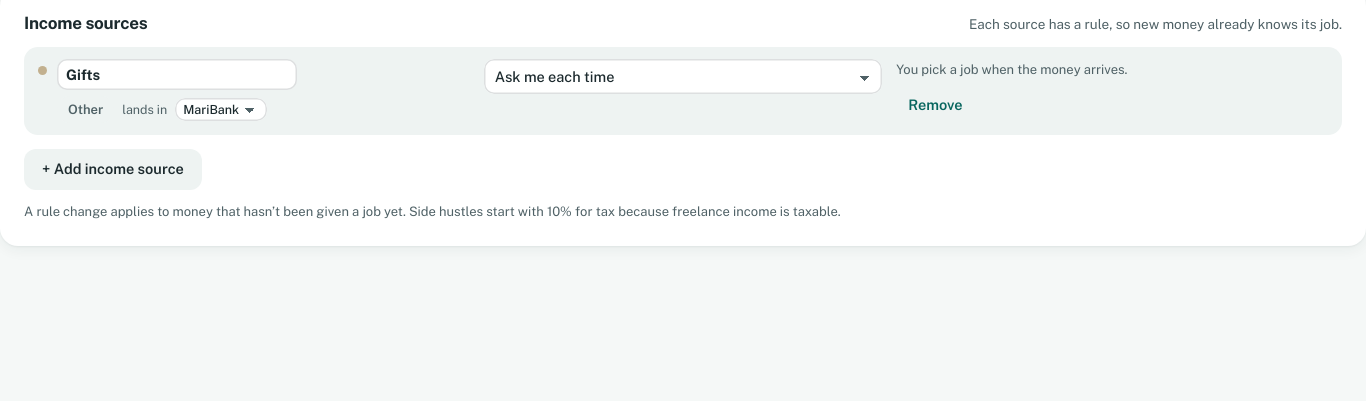
Test: IncomeSources › an own split can be built from empty after switching a source to its own split
Select "Its own split" in the dropdown named "Rule for Gifts" at (683, 77), box [484, 59, 882, 94]
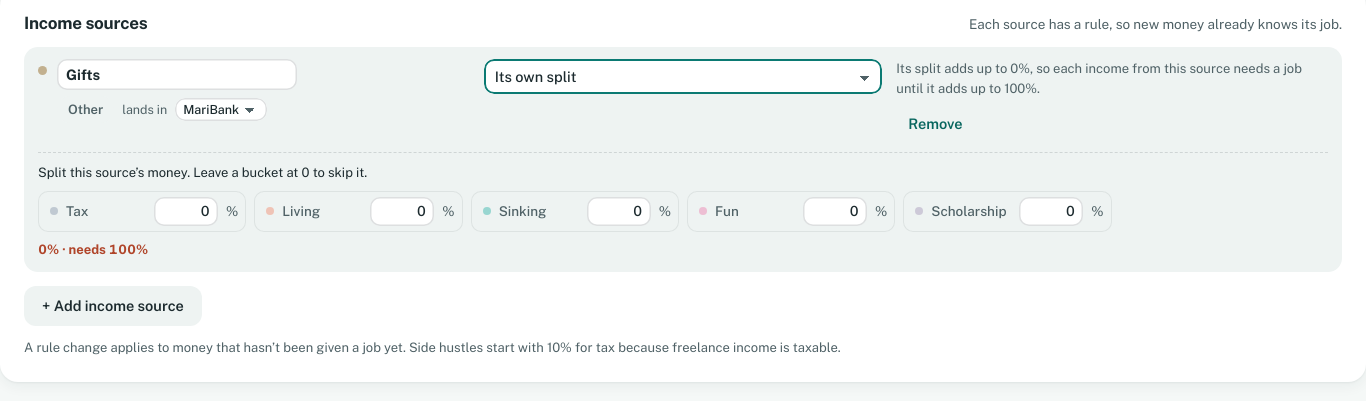
Expected: the text with test id "own-total-s-g" reads "0% · needs 100%", [38, 242, 148, 257]
